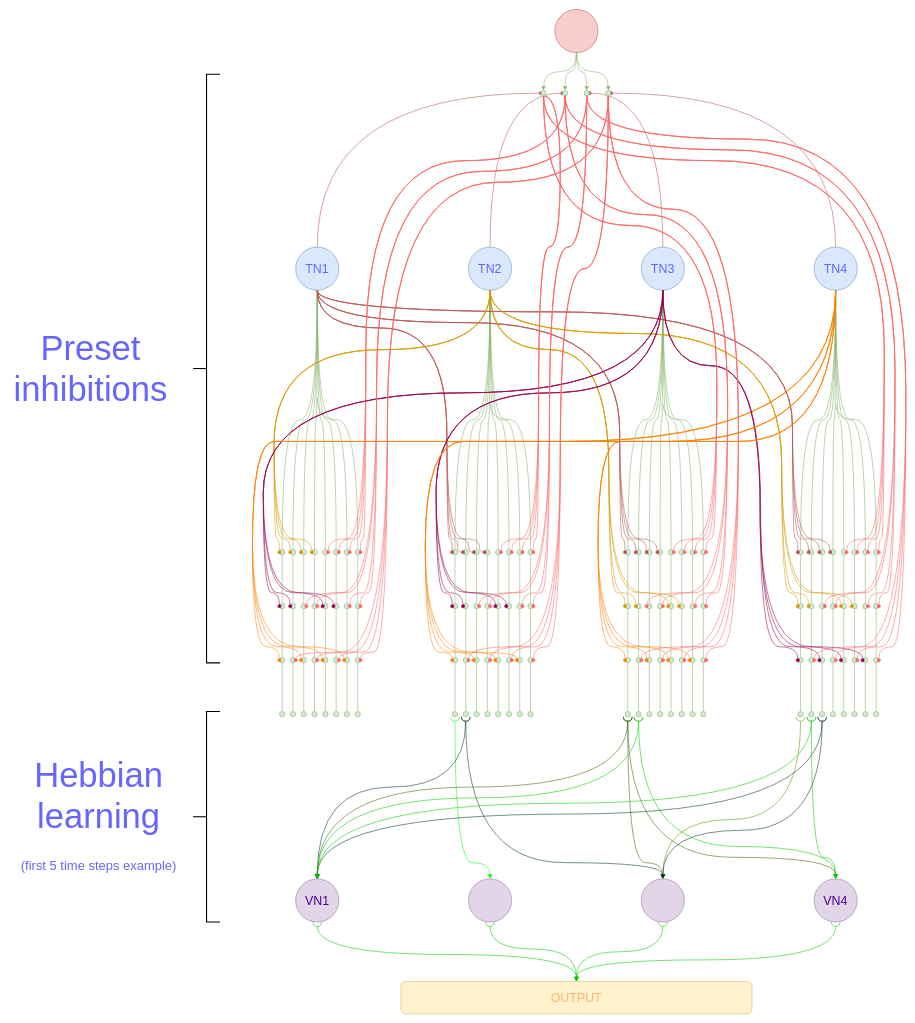
Some shapes in this 915 by 1023 pixel diagram are drawn without their labels. The centre of each missing label's shape, as x and y in pixels:
"IN" belongs at point (576, 31).
"VN2" belongs at point (490, 900).
"VN3" belongs at point (662, 900).
